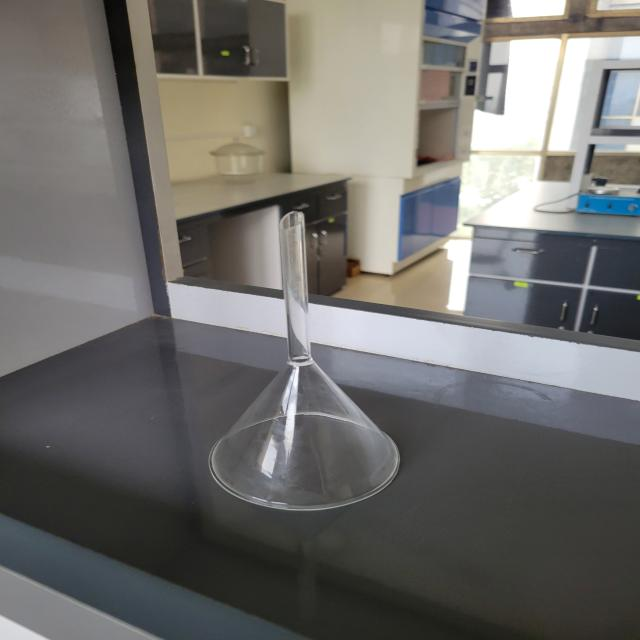Funnel: (180, 175, 455, 542)
